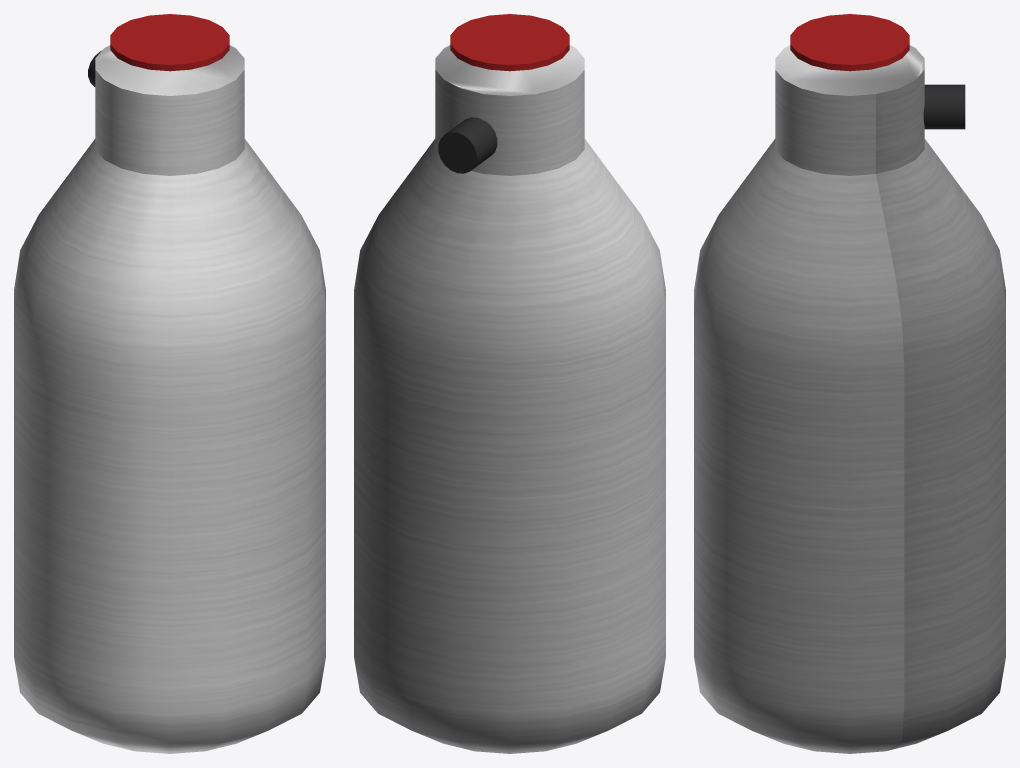
File: o2_tank 1.FBX
3 views of the same model, side by side, from view 1: azimuth 30°, elevation 25°; view 2: azimuth 150°, elevation 25°; view 3: azimuth 270°, elevation 25° (orthographic).
Parts seen in each view (by area): view 1: Cylinder004; view 2: Cylinder004; view 3: Cylinder004.
Part boxes in pixels (x1,y1,x2,y2): Cylinder004: [14, 14, 325, 753]; Cylinder004: [354, 14, 665, 753]; Cylinder004: [694, 14, 1005, 753].
Size of the model in its own units: 30.89 by 72.17 by 30.42.
1 material, 1 textured.
